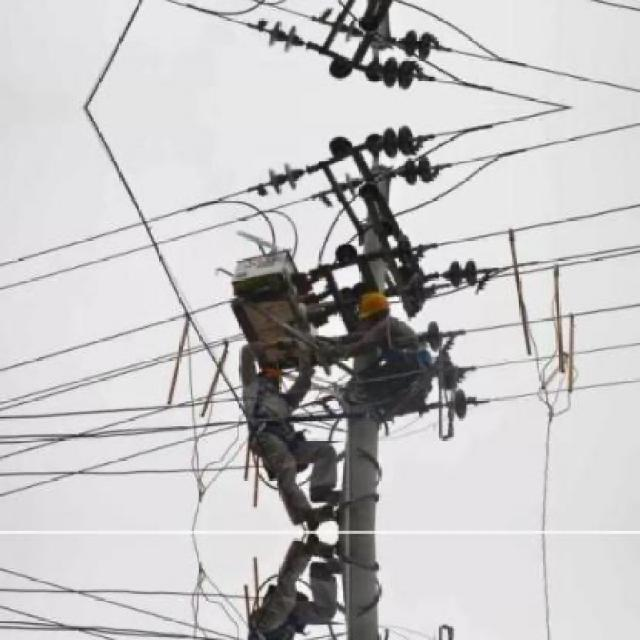helmet: (352, 288, 391, 320), (253, 363, 284, 388)
